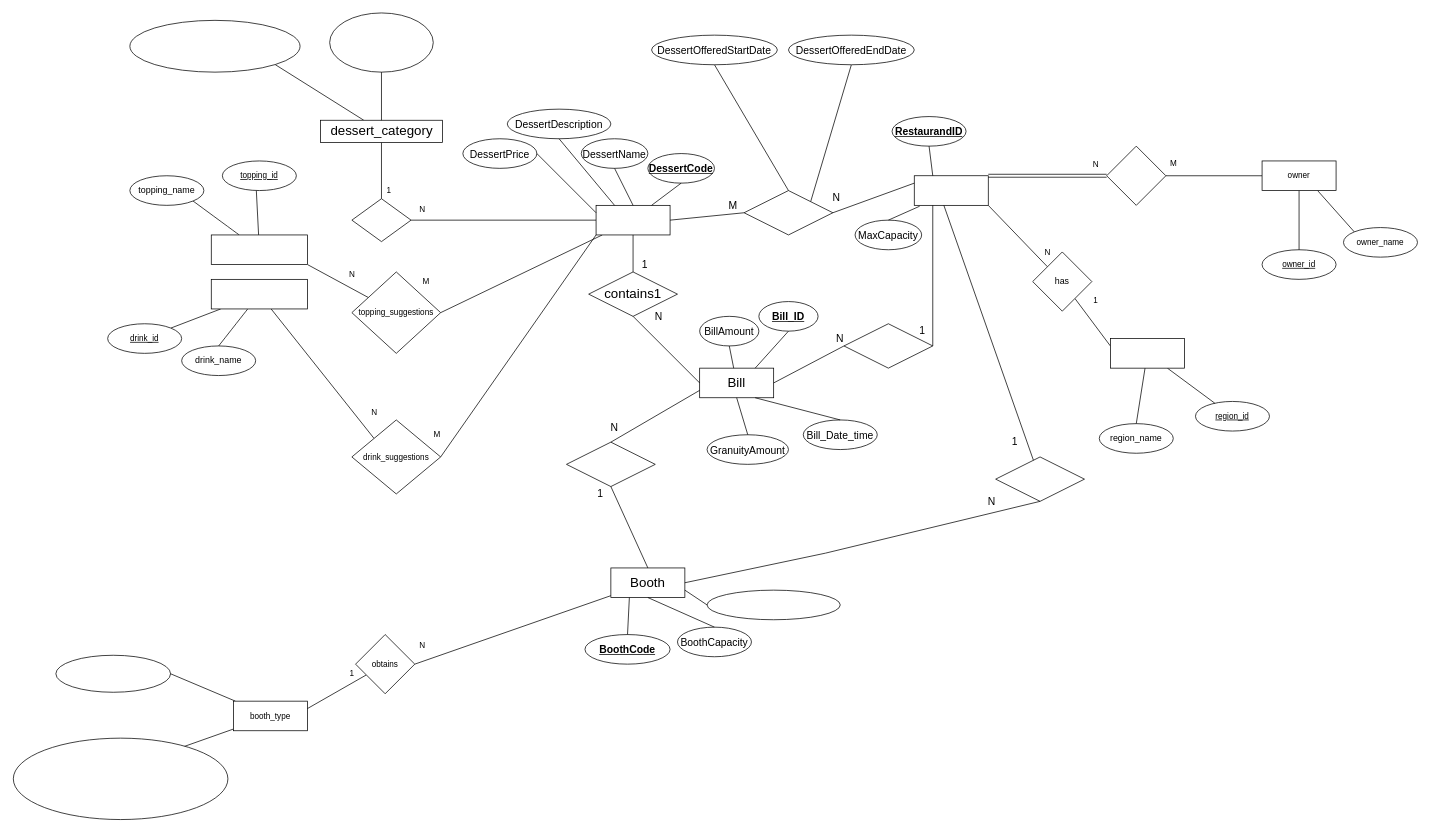
Image size: 1430x833. Some labels were removed from this diagram. The centre of each missing label's shape, as x and y in pixels:
booth_type_code: the point at 120,778
BoothTypeText: the point at 113,673
contains2: the point at 1039,478
Dessert: the point at 632,220
dessert_category_id: the point at 381,42
dessert_category_name: the point at 214,46
drink: the point at 259,294
generate: the point at 610,464
involved_in: the point at 381,220
offer: the point at 788,212
owns: the point at 1136,175
process: the point at 888,345
region: the point at 1147,353
Restaurant: the point at 951,190
SmokingSectionIndicator: the point at 773,604
topping: the point at 259,249
